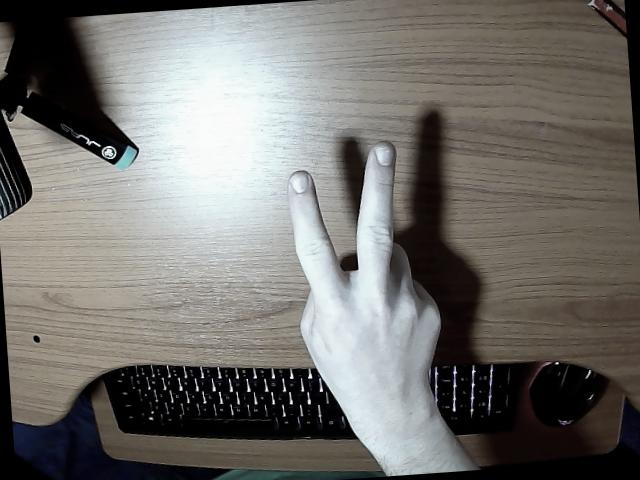scissors: (288, 141, 476, 475)
